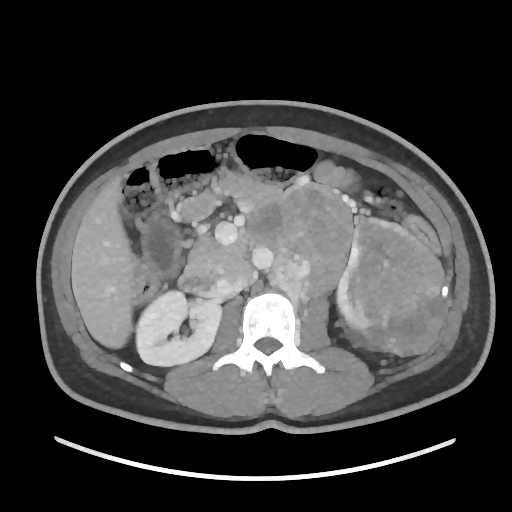Lesion: (348, 215, 445, 325)
